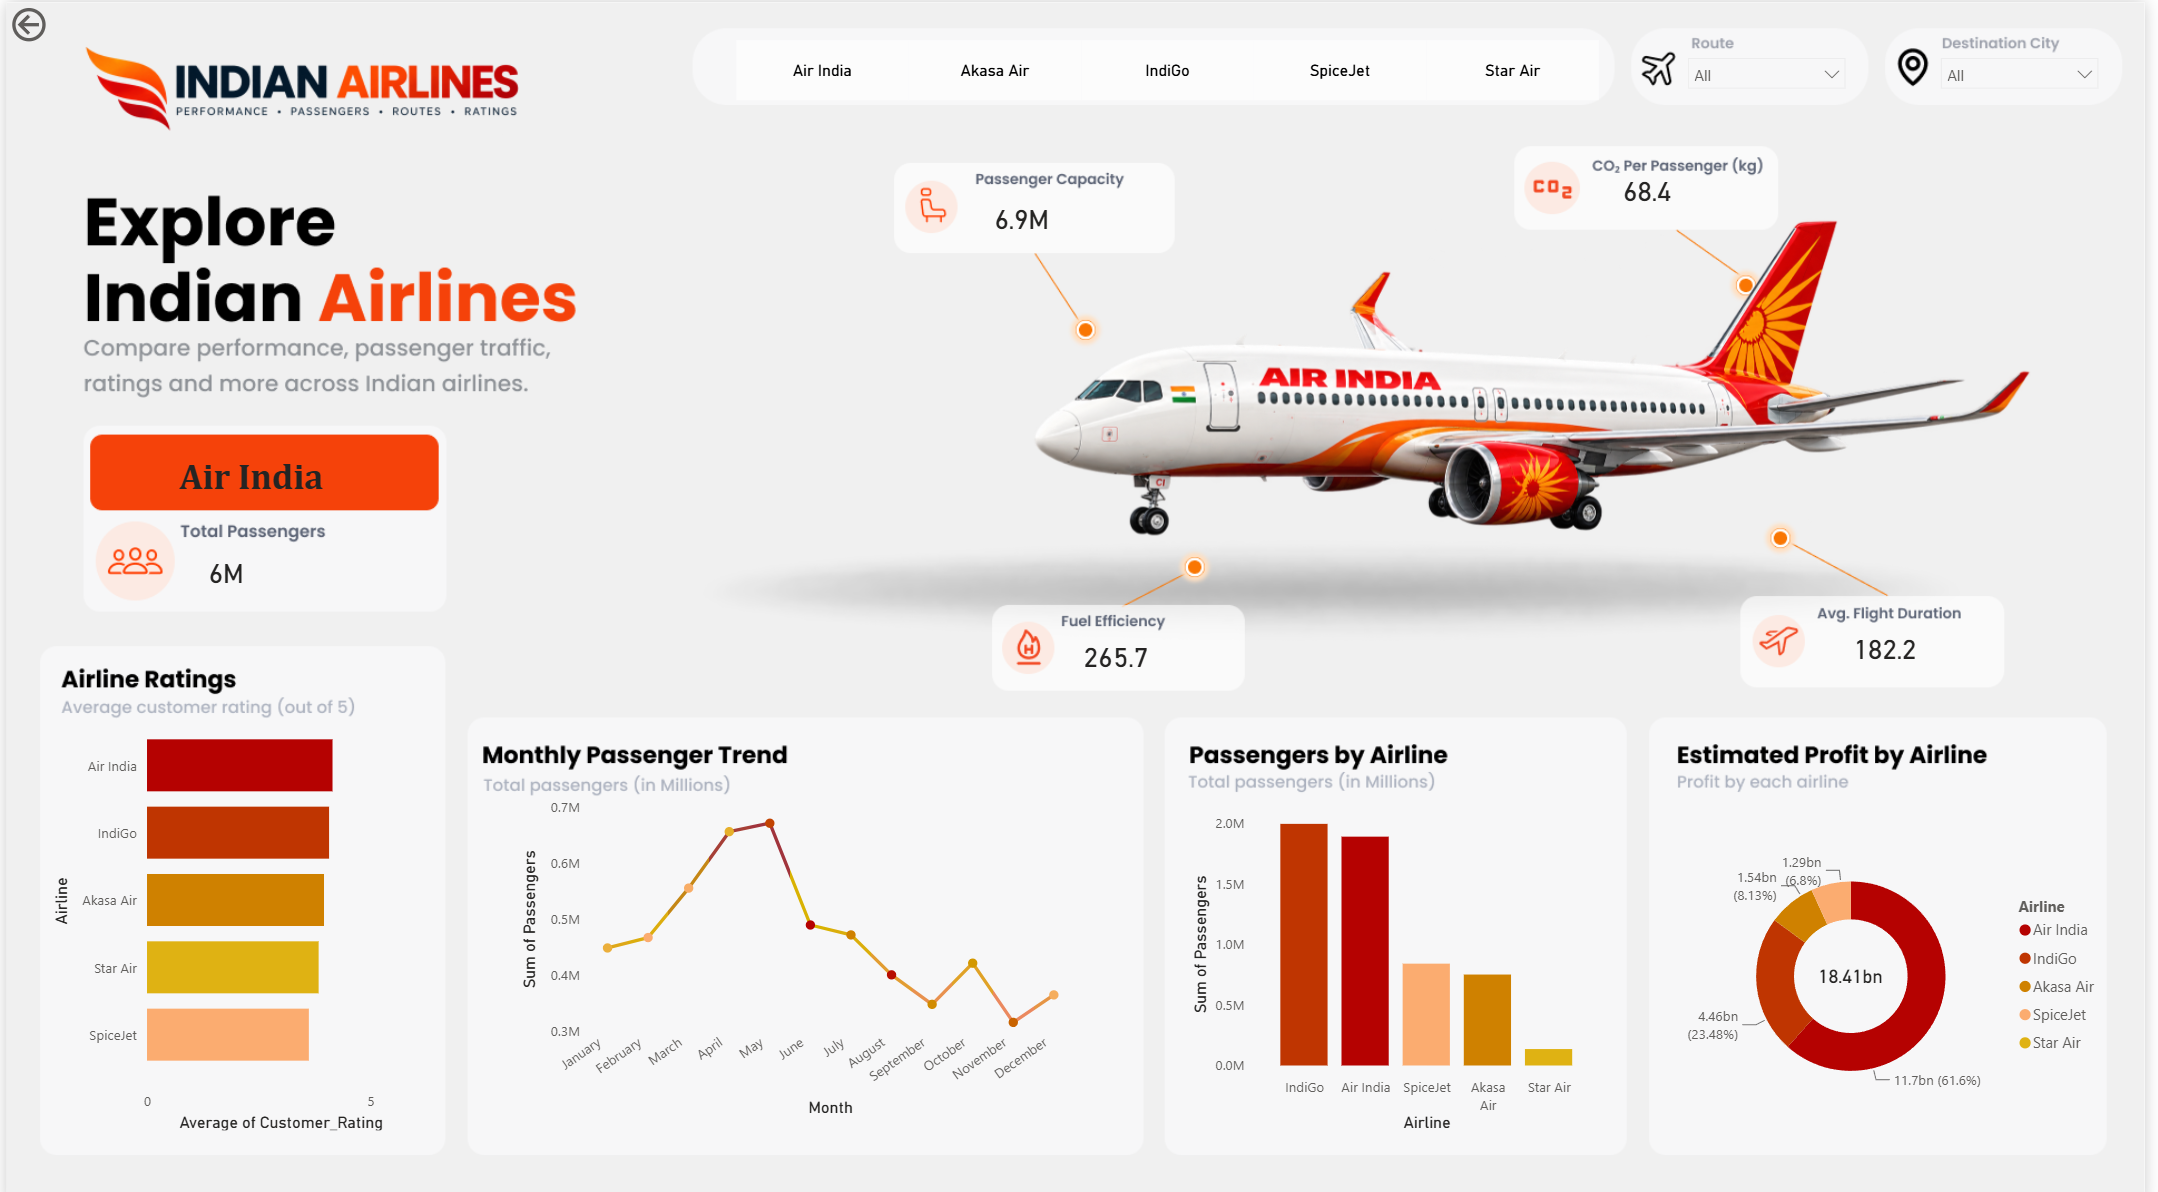

Layout of this report page (visuals, bound fields, positions):
{"tool":"powerbi","page":{"name":"Page 1","canvas":[1920,1080],"ordinal":0},"visuals":[{"type":"barChart","fields":{"Category":["Flight_Data.Airline"],"Y":["Avg(Flight_Data.Customer_Rating)"]},"box":[35.5,623.6,340,393.6],"z":0},{"type":"columnChart","fields":{"Category":["Flight_Data.Airline"],"Y":["Sum(Flight_Data.Passengers)"]},"box":[1058.9,722.2,375.6,295.6],"z":1000},{"type":"donutChart","fields":{"Category":["Flight_Data.Airline"],"Y":["Sum(Flight_Data.Estimated_Profit_INR)"]},"box":[1500,668.8,388.8,411.2],"z":2000},{"type":"advancedSlicerVisual","fields":{"Values":["Aircraft_Images.Airline"]},"box":[650,20,755,72.5],"z":3000},{"type":"image","box":[900,84.4,930,510],"z":4000},{"type":"cardVisual","fields":{"Data":["Min(Aircraft_Images.Airline)"]},"box":[145.7,381.4,337.1,75.7],"z":5000},{"type":"actionButton","box":[0,0,100,40],"z":6000},{"type":"cardVisual","fields":{"Data":["Measures_Table.Total_Passengers"]},"box":[163.6,477.3,189.1,62.7],"z":7000},{"type":"cardVisual","fields":{"Data":["Measures_Table.seat capacity"]},"box":[870,165.7,160,50],"z":8000},{"type":"cardVisual","fields":{"Data":["Measures_Table.co2_per_passanger"]},"box":[1435,120,171.1,91.1],"z":9000},{"type":"cardVisual","fields":{"Data":["Measures_Table.Fuel_efficiency"]},"box":[950,561.1,177.8,45.6],"z":10000},{"type":"cardVisual","fields":{"Data":["Measures_Table.Avg_flight_duration"]},"box":[1641.7,545,189.1,62.7],"z":11000},{"type":"slicer","fields":{"Values":["Flight_Data.Route"]},"box":[1521.4,40,147.1,51.4],"z":12000},{"type":"slicer","fields":{"Values":["Flight_Data.Route","Flight_Data.Destination_City"]},"box":[1768.3,40,120,45],"z":13000},{"type":"lineChart","fields":{"Category":["Flight_Data.Date.Variation.Date Hierarchy.Year","Flight_Data.Date.Variation.Date Hierarchy.Month","Flight_Data.Date.Variation.Date Hierarchy.Day"],"Y":["Sum(Flight_Data.Passengers)"]},"box":[456,708,504,296],"z":14000}]}

Visuals, with their boxes in screenshot pixels (x1, y1, x2, y2), scaled from the page's 1920x1080 canvas onto the 2158x1192 screenshot:
barChart - Flight_Data.Airline x Avg(Flight_Data.Customer_Rating): (x1=40, y1=688, x2=422, y2=1123)
columnChart - Flight_Data.Airline x Sum(Flight_Data.Passengers): (x1=1190, y1=797, x2=1612, y2=1123)
donutChart - Flight_Data.Airline x Sum(Flight_Data.Estimated_Profit_INR): (x1=1686, y1=738, x2=2123, y2=1191)
advancedSlicerVisual - Aircraft_Images.Airline: (x1=731, y1=22, x2=1579, y2=102)
image: (x1=1012, y1=93, x2=2057, y2=656)
cardVisual - Min(Aircraft_Images.Airline): (x1=164, y1=421, x2=543, y2=505)
actionButton: (x1=0, y1=0, x2=112, y2=44)
cardVisual - Measures_Table.Total_Passengers: (x1=184, y1=527, x2=396, y2=596)
cardVisual - Measures_Table.seat capacity: (x1=978, y1=183, x2=1158, y2=238)
cardVisual - Measures_Table.co2_per_passanger: (x1=1613, y1=132, x2=1805, y2=233)
cardVisual - Measures_Table.Fuel_efficiency: (x1=1068, y1=619, x2=1268, y2=670)
cardVisual - Measures_Table.Avg_flight_duration: (x1=1845, y1=602, x2=2058, y2=671)
slicer - Flight_Data.Route: (x1=1710, y1=44, x2=1875, y2=101)
slicer - Flight_Data.Route x Flight_Data.Destination_City: (x1=1987, y1=44, x2=2122, y2=94)
lineChart - Flight_Data.Date.Variation.Date Hierarchy.Year x Flight_Data.Date.Variation.Date Hierarchy.Month: (x1=513, y1=781, x2=1079, y2=1108)
